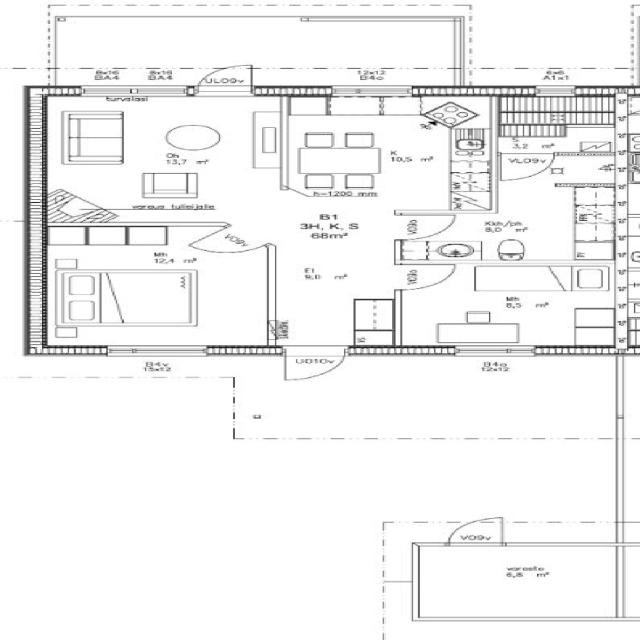door: (388, 262, 631, 350), (276, 344, 348, 383), (191, 63, 259, 96), (393, 262, 462, 293), (396, 210, 461, 241), (446, 515, 508, 547), (499, 152, 557, 181)
window: (68, 82, 197, 101), (95, 343, 217, 359), (325, 84, 421, 100), (507, 538, 634, 550), (448, 344, 544, 358), (530, 84, 580, 96)
zone: (42, 224, 274, 350), (40, 94, 288, 204), (388, 263, 634, 352), (288, 96, 472, 200), (407, 544, 634, 620), (499, 88, 633, 153), (394, 263, 461, 292)
